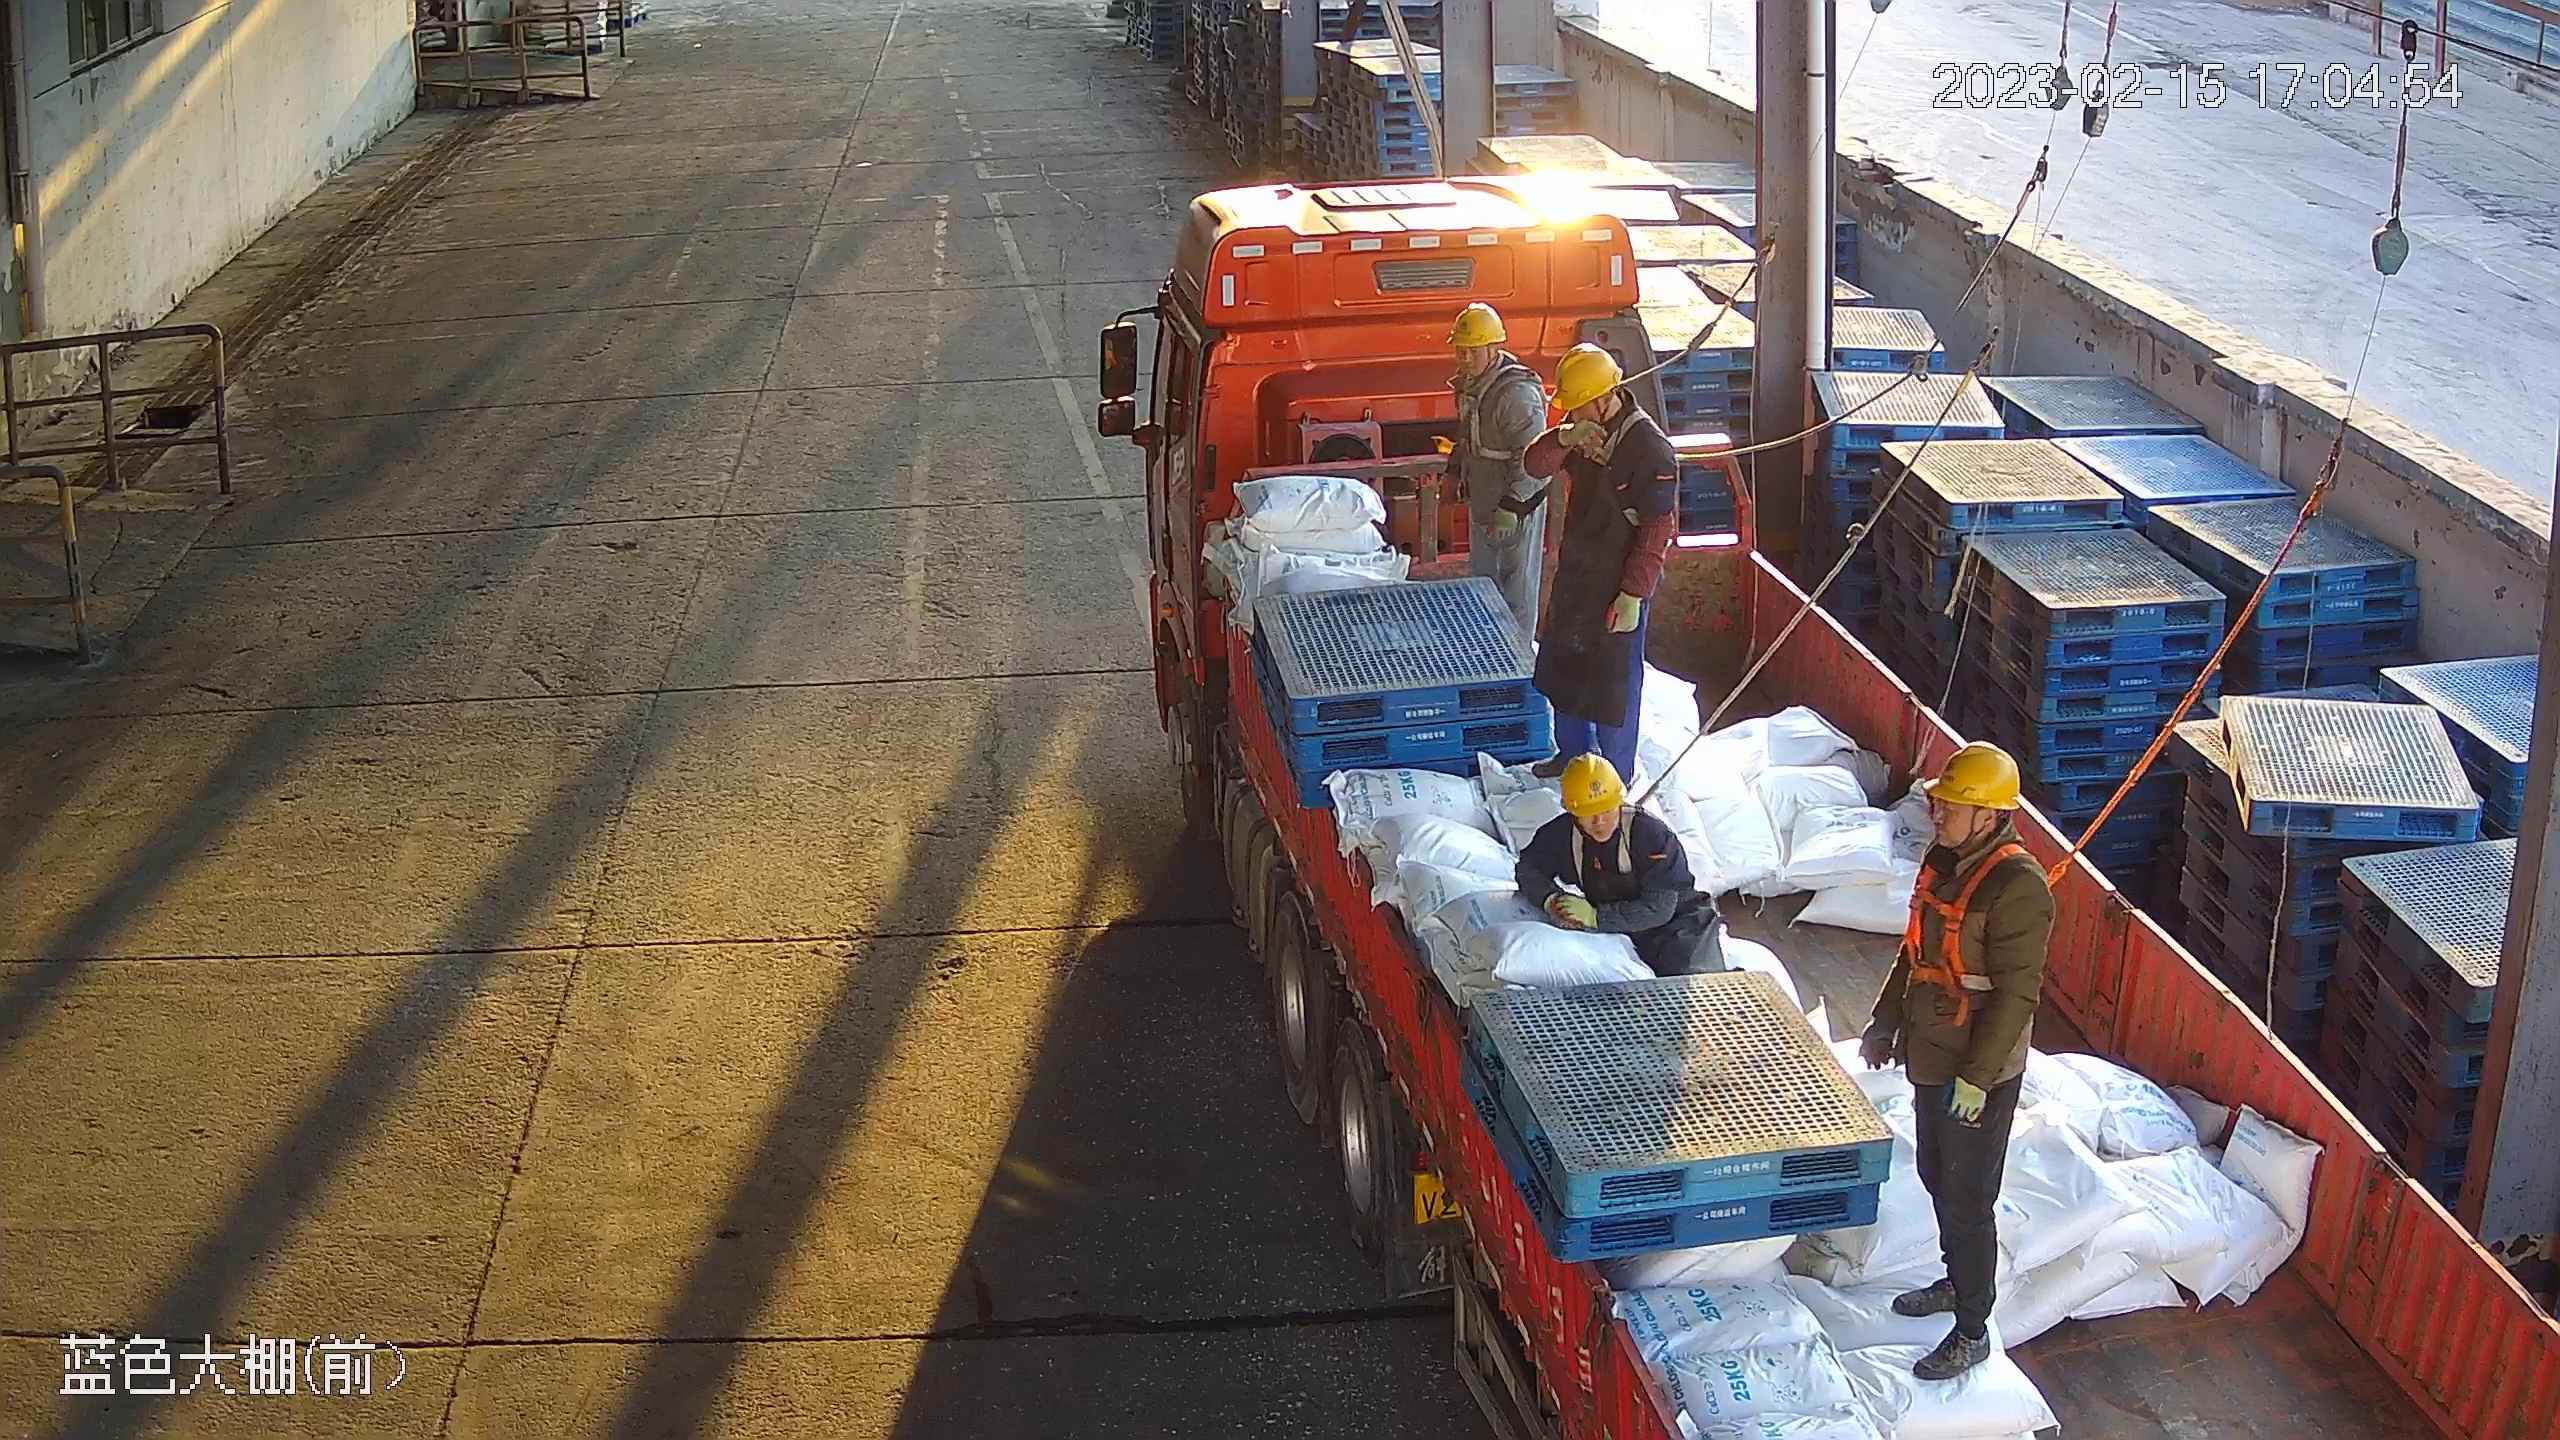belt: (1898, 836, 2072, 1011), (1457, 364, 1564, 461), (1567, 783, 1658, 889), (1564, 408, 1698, 480)
head: (1907, 739, 2058, 932), (1540, 341, 1683, 489), (1514, 751, 1693, 867), (1445, 298, 1546, 420)
helmet: (1921, 740, 2022, 814), (1549, 341, 1622, 411), (1558, 751, 1630, 814), (1446, 299, 1507, 349)
people: (1858, 739, 2057, 1382), (1526, 341, 1679, 789), (1511, 749, 1737, 982), (1438, 298, 1553, 658)
truck: (1141, 177, 2560, 1440)
